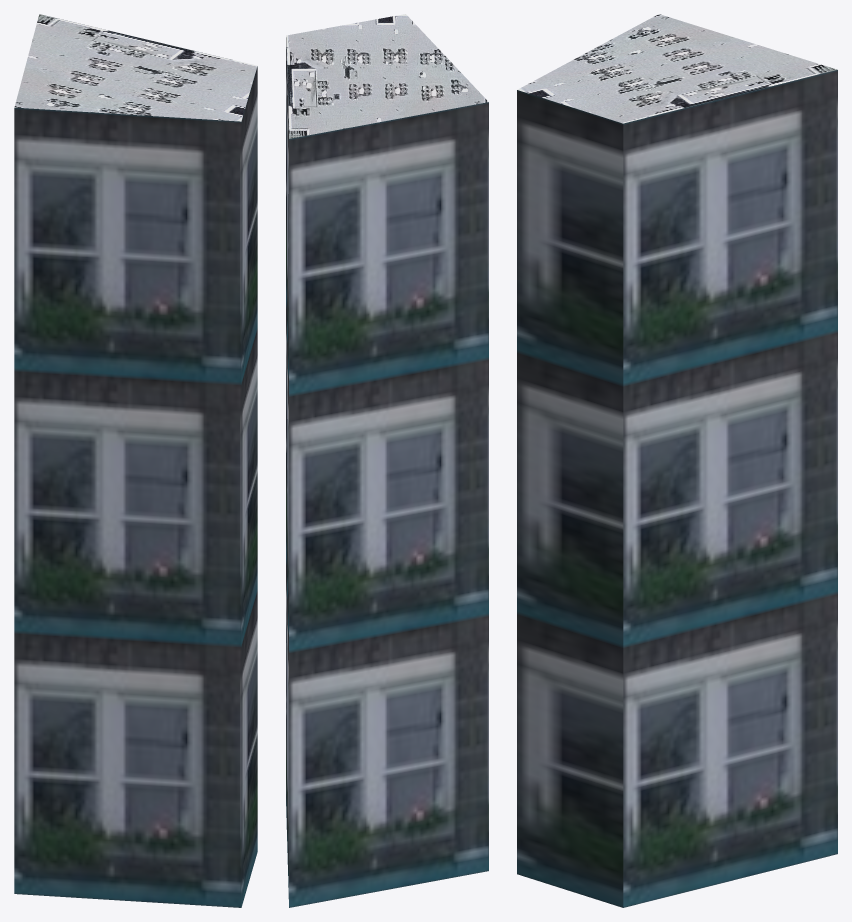
Rendered from ResTex__3668.fbx.
3 renders of one model, left to right at view 1: azimuth 30°, elevation 25°; view 2: azimuth 150°, elevation 25°; view 3: azimuth 270°, elevation 25°, orthographic. The views are drawn at different scales.
Visible parts, largest first — view 1: CityEngineMaterial_11_m, CityEngineMaterial_4_m; view 2: CityEngineMaterial_11_m, CityEngineMaterial_4_m; view 3: CityEngineMaterial_11_m, CityEngineMaterial_4_m.
Boxes of the visible parts, x1,y1,x2,y2 form: CityEngineMaterial_11_m: (14,66,257,907); CityEngineMaterial_4_m: (14,14,257,121); CityEngineMaterial_11_m: (286,37,488,907); CityEngineMaterial_4_m: (286,14,488,138); CityEngineMaterial_11_m: (517,70,837,907); CityEngineMaterial_4_m: (517,14,837,123).
Size of the model in its own units: 2.7 by 9 by 3.34.
Materials: 2 (2 with a texture image).
